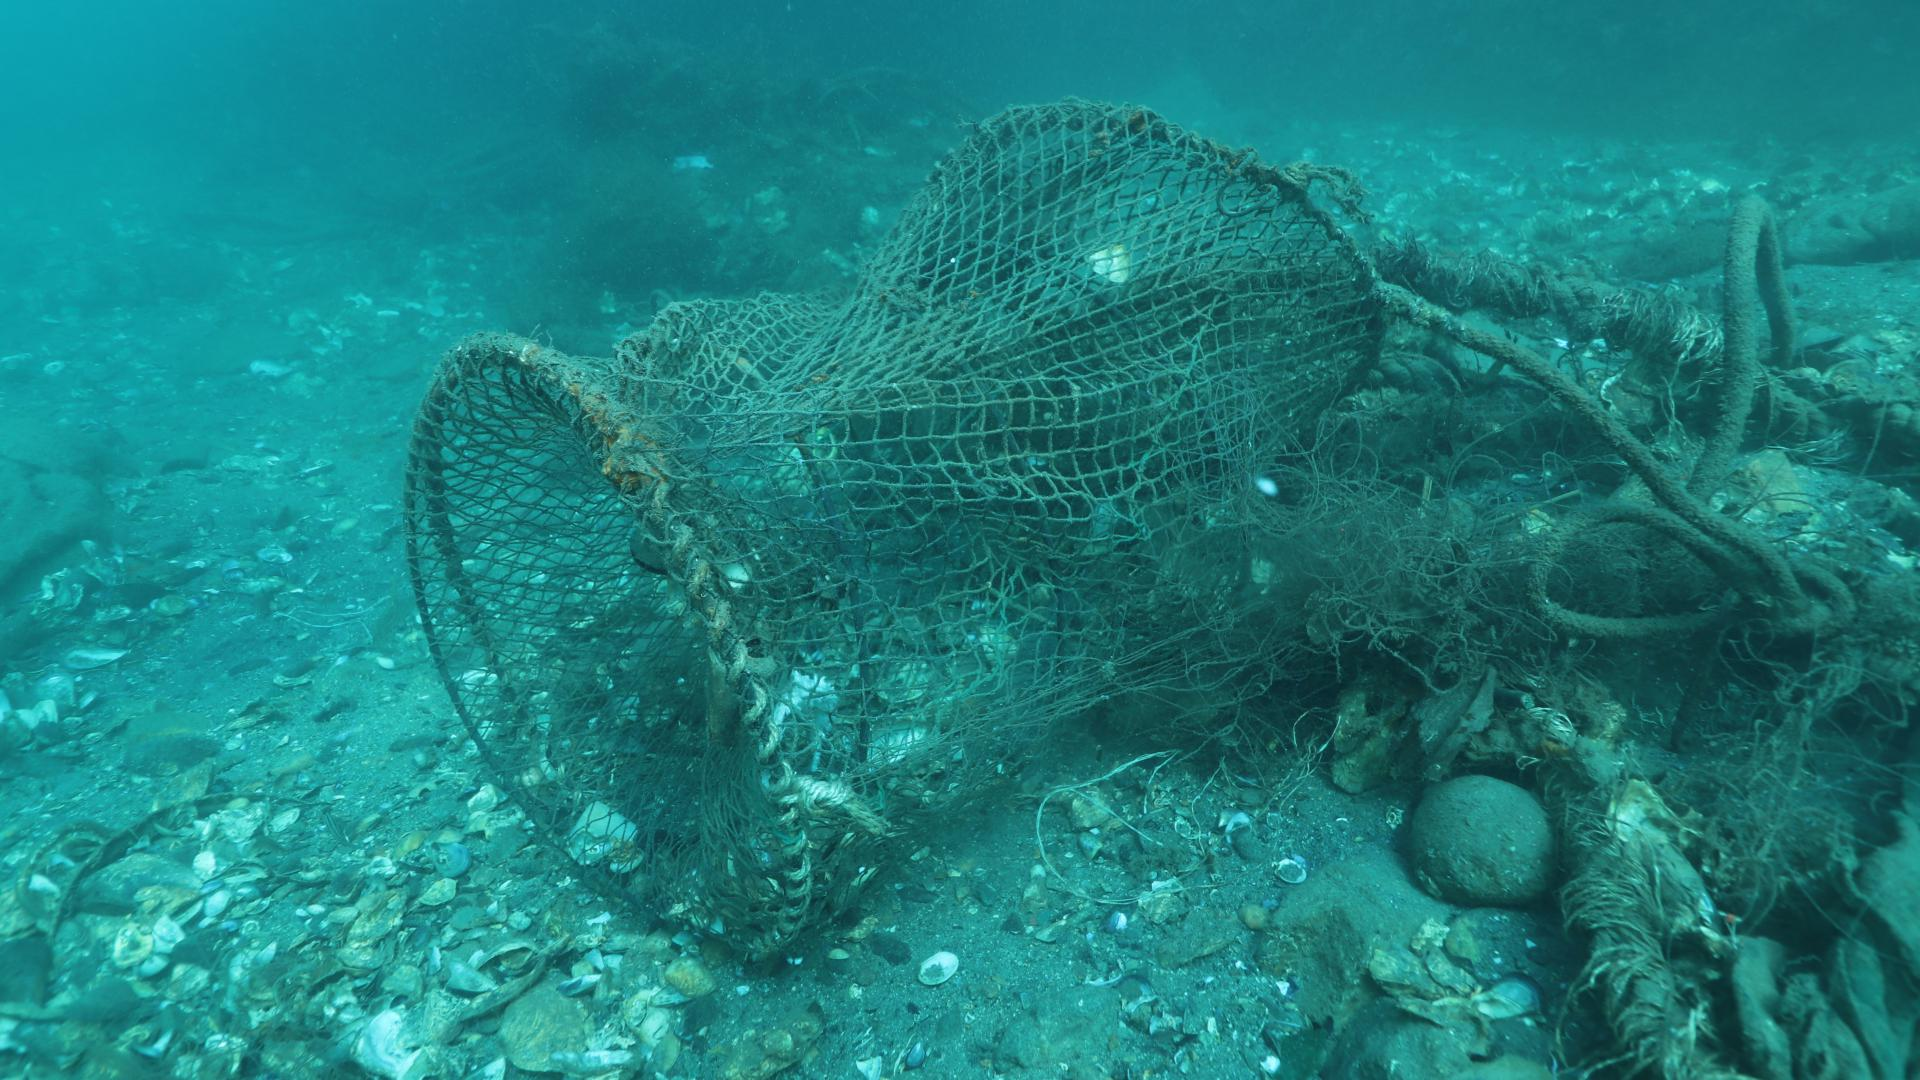bundle of ropes: (1280, 158, 1356, 190)
rope: (1369, 353, 1433, 390)
spring fish trap: (401, 103, 1383, 968)
